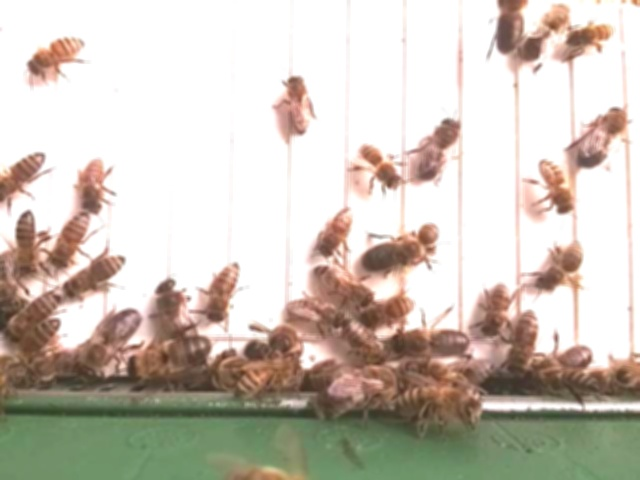Drone: (74, 306, 144, 383), (126, 333, 215, 377), (154, 275, 200, 358), (516, 0, 573, 64), (577, 103, 631, 169), (387, 323, 473, 362), (359, 235, 439, 275), (417, 112, 462, 183)
Worker: (62, 251, 128, 298), (4, 288, 62, 341), (310, 263, 377, 307), (48, 205, 92, 271), (25, 32, 89, 76), (536, 236, 586, 292), (202, 258, 243, 324), (0, 151, 49, 202), (314, 203, 355, 261), (282, 72, 318, 138), (356, 142, 405, 190), (505, 306, 540, 373), (282, 295, 350, 329), (538, 158, 578, 215), (480, 279, 512, 339), (81, 152, 110, 216), (361, 293, 419, 322), (14, 206, 39, 272), (566, 21, 617, 51)
